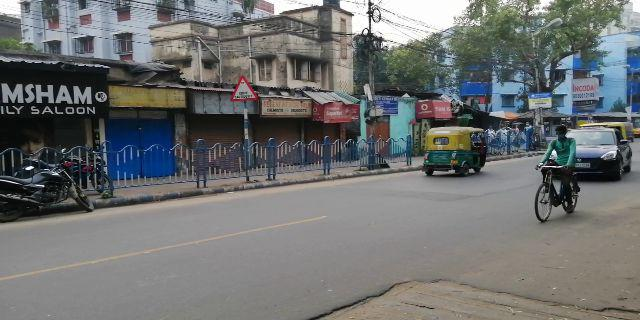Autorickshaw: (421, 124, 494, 181)
Car: (571, 126, 629, 180)
Cycle: (529, 126, 587, 217)
Motorbike: (1, 157, 97, 222)
